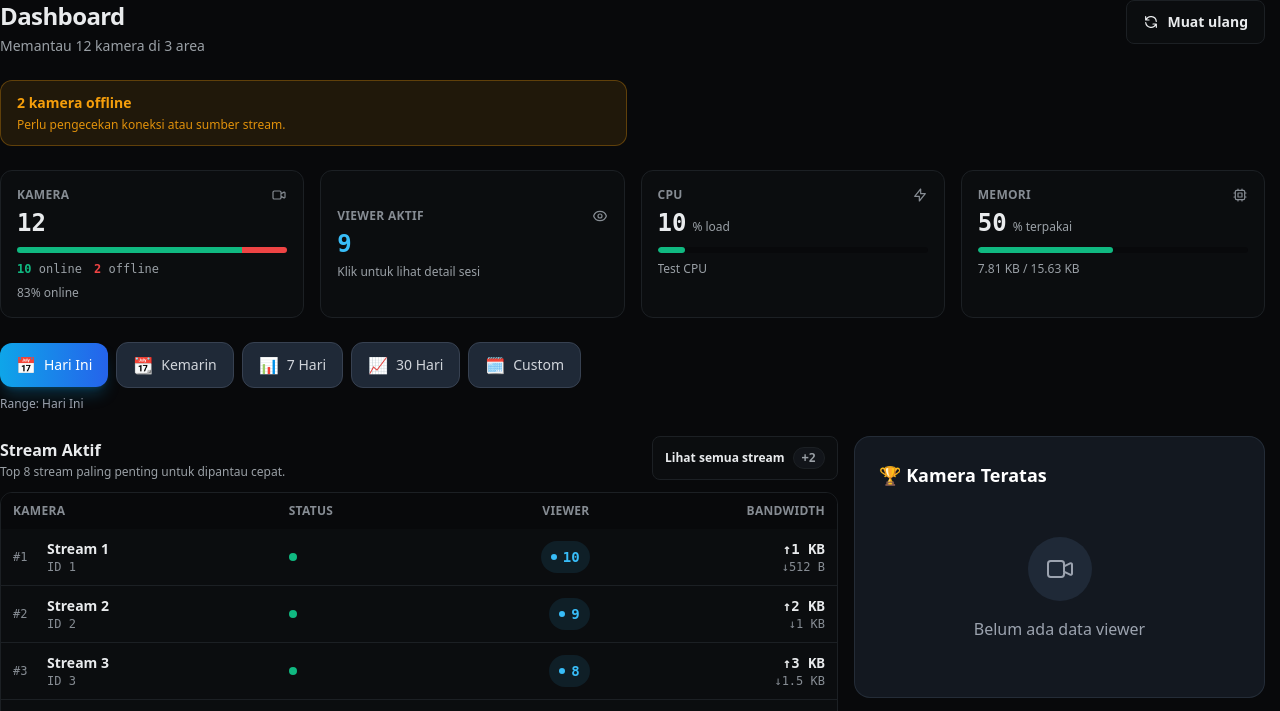
Test: Dashboard › meringkas stream aktif menjadi top 8 dan membuka drawer untuk daftar penuh
The image size is (1280, 711).
Expected: the text "Stream 1" is shown, x1=47 y1=539 x2=109 y2=559
Expected: the text "Stream 9" is not shown
Click the button with test id "open-streams-drawer" at coordinates (745, 458), box x1=652 y1=436 x2=838 y2=480
(page scrolled)
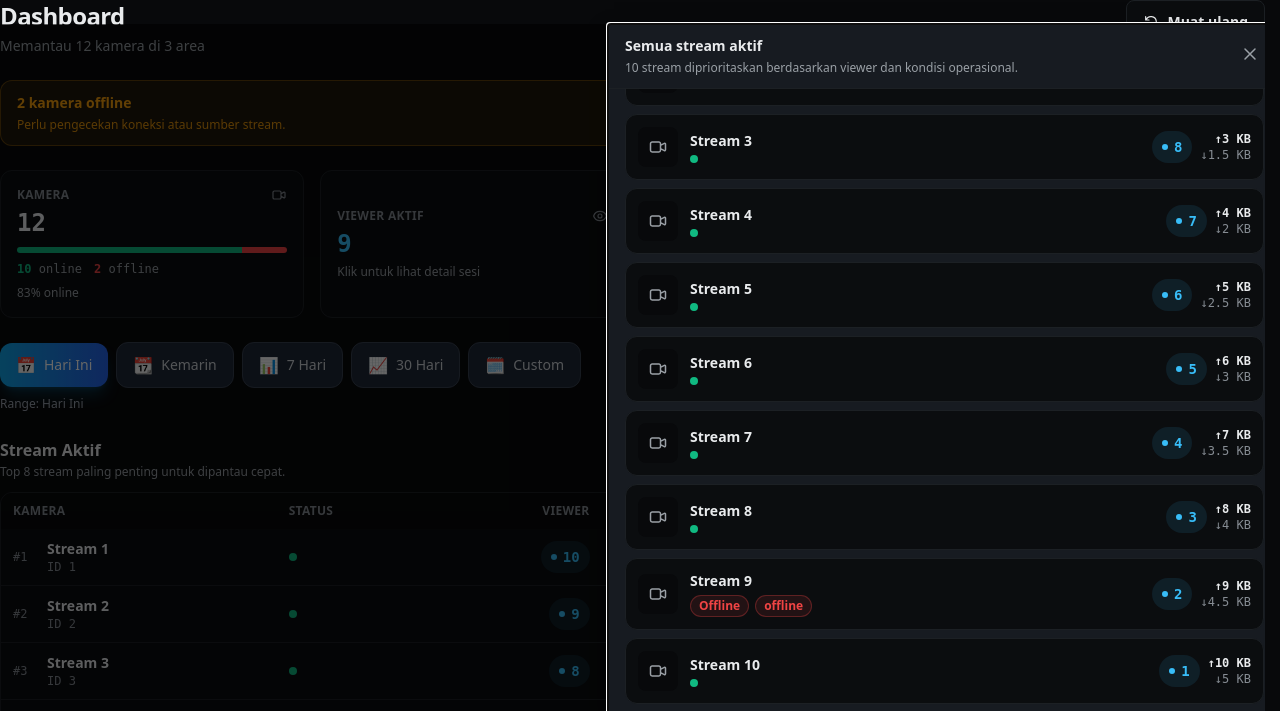
Now the heading "Semua stream aktif" is shown, box x1=625 y1=36 x2=762 y2=55
Now the text "Stream 10" is shown, box x1=690 y1=655 x2=760 y2=674
